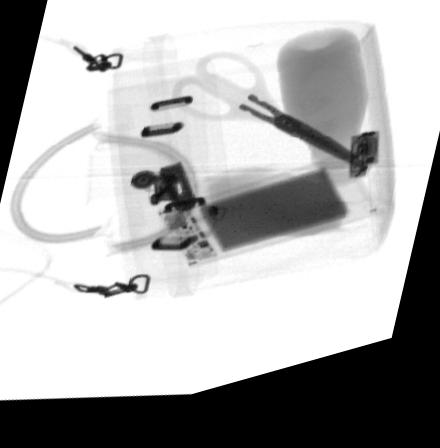Powerbank: (154, 173, 358, 275)
Scissors: (165, 60, 372, 193)
